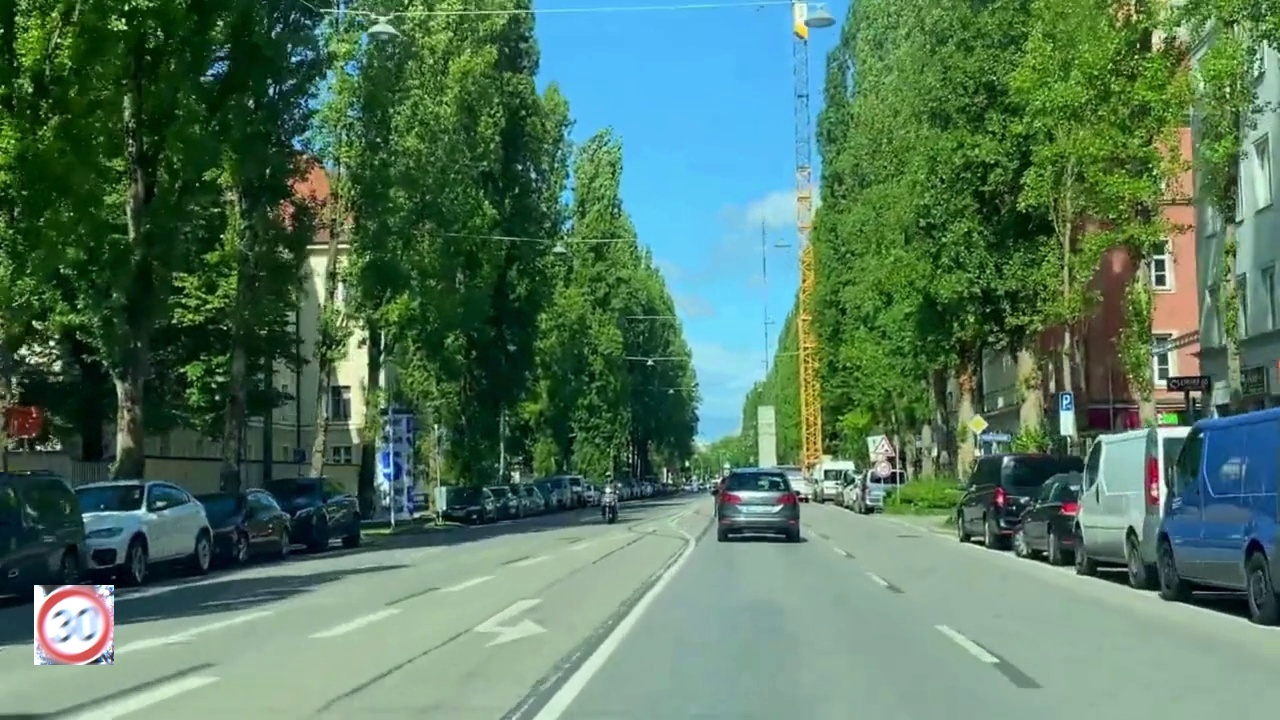Speed 30: (34, 585, 114, 665)
